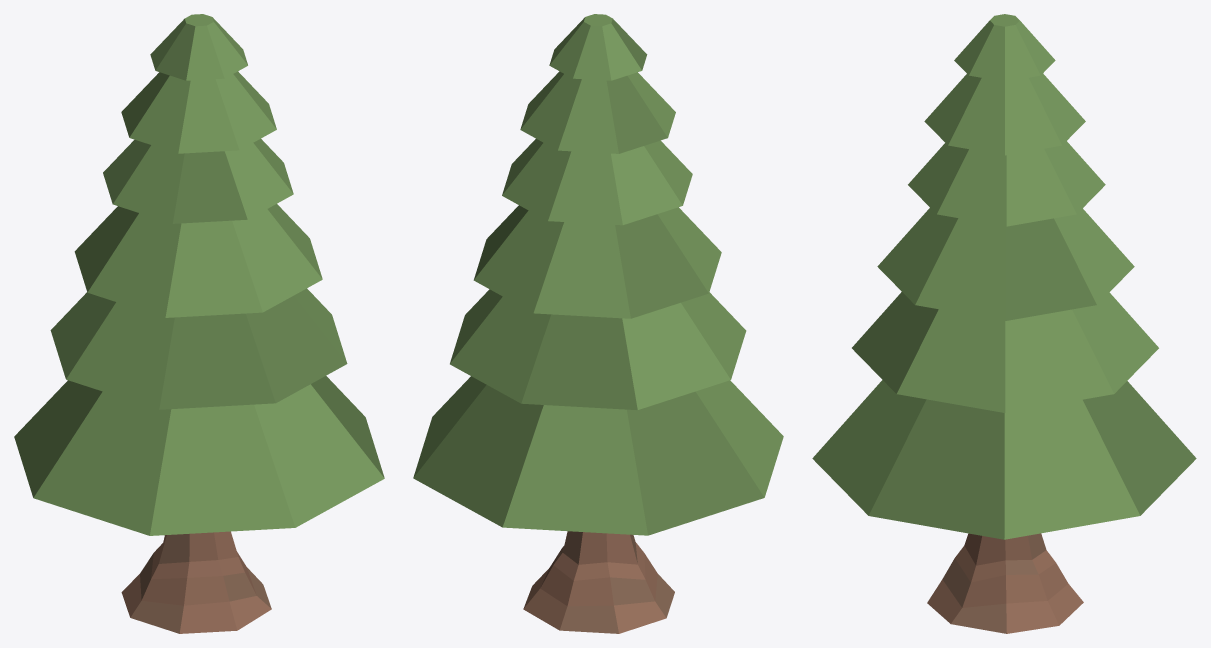
File: Tree 1.fbx
3 views of the same model, side by side, from view 1: azimuth 30°, elevation 25°; view 2: azimuth 150°, elevation 25°; view 3: azimuth 270°, elevation 25° (orthographic).
Visible parts, largest first — view 1: Cylinder.004, Cylinder; view 2: Cylinder.004, Cylinder; view 3: Cylinder.004, Cylinder.
Boxes of the visible parts, x1=… form: Cylinder.004: x1=14, y1=14, x2=384, y2=535; Cylinder: x1=121, y1=531, x2=271, y2=633; Cylinder.004: x1=413, y1=14, x2=783, y2=535; Cylinder: x1=523, y1=531, x2=674, y2=633; Cylinder.004: x1=812, y1=14, x2=1196, y2=539; Cylinder: x1=927, y1=533, x2=1083, y2=633.
Bounding box in the file's own units: 456 × 762 × 456.
